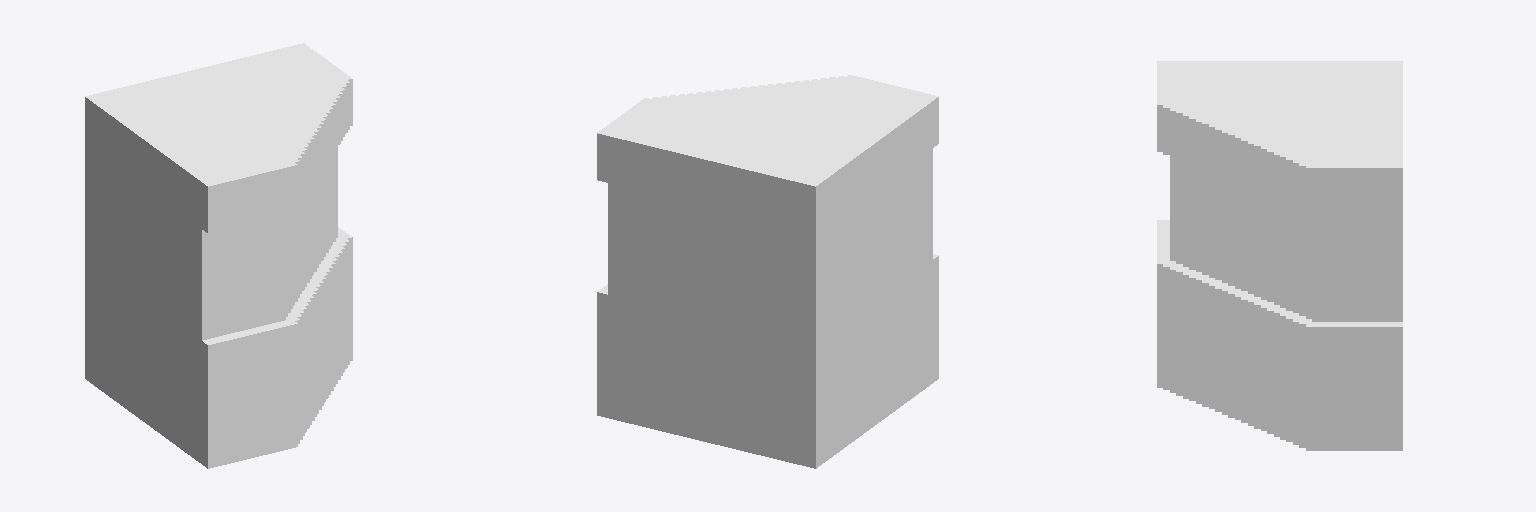
Rendered from mart-29.obj.
The picture shows the model from 3 angles: view 1: azimuth 30°, elevation 25°; view 2: azimuth 150°, elevation 25°; view 3: azimuth 270°, elevation 25°; orthographic projection.
Parts seen in each view (by area): view 1: object 1; view 2: object 1; view 3: object 1.
Boxes of the visible parts, <box> form: object 1: <box>85,43,352,468</box>; object 1: <box>597,75,938,468</box>; object 1: <box>1157,61,1402,450</box>.
Size of the model in its own units: 3.9 by 4.8 by 3.8.